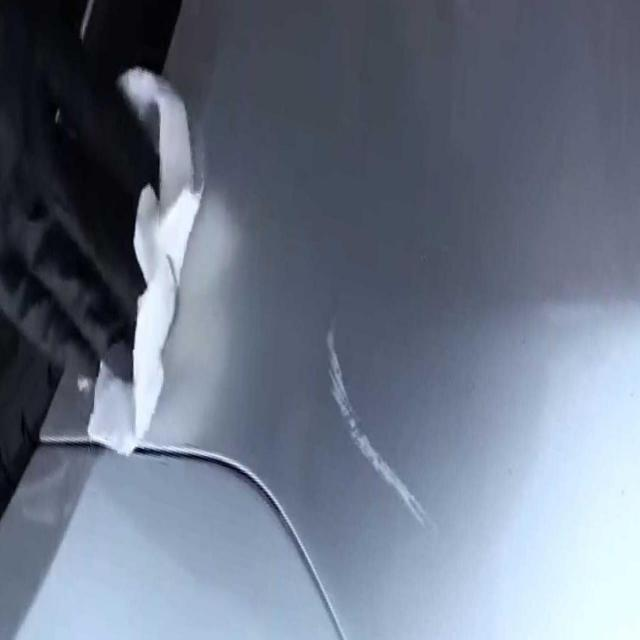scratch: (316, 312, 440, 536)
